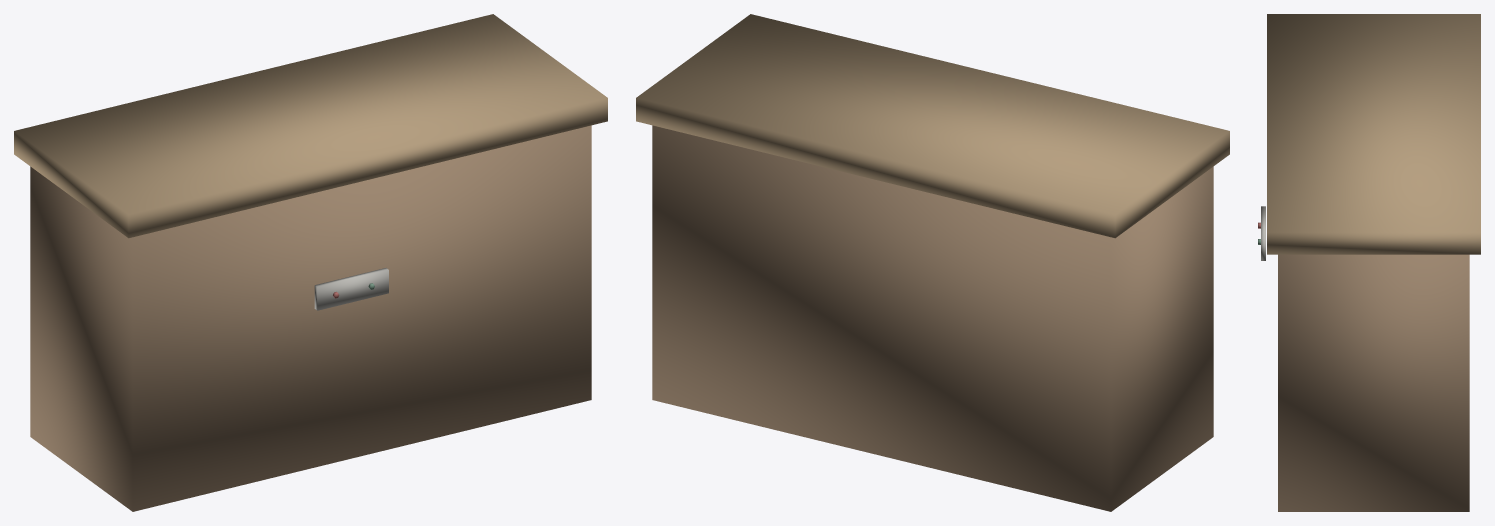
File: funeral_reception_counter__compact.glb
The picture shows the model from 3 angles, left to right: view 1: azimuth 30°, elevation 25°; view 2: azimuth 150°, elevation 25°; view 3: azimuth 270°, elevation 25°; orthographic projection. The views are drawn at different scales.
Visible parts, largest first — view 1: world; view 2: world; view 3: world.
Boxes of the visible parts, x1,y1,x2,y2 form: world: [14, 14, 607, 511]; world: [636, 14, 1229, 511]; world: [1258, 14, 1480, 511].
Size of the model in its own units: 1.58 by 0.9579 by 0.6803.
